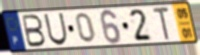0: (75, 12, 98, 45)
2: (128, 8, 152, 43)
6: (99, 8, 122, 46)
B: (21, 14, 48, 49)
T: (151, 6, 172, 42)
U: (42, 12, 69, 47)
